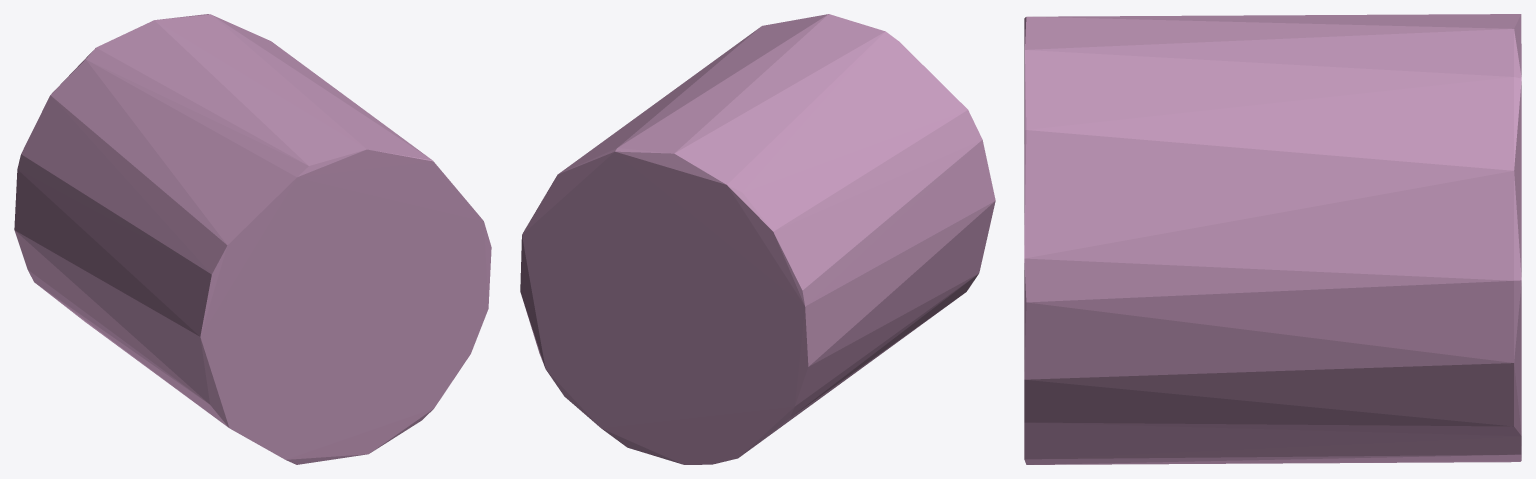
The model's file is food_processed_cannedFood_o01.glb.
The picture shows the model from 3 angles, left to right: view 1: azimuth 30°, elevation 25°; view 2: azimuth 150°, elevation 25°; view 3: azimuth 270°, elevation 25°; orthographic projection. The views are drawn at different scales.
Visible parts, largest first — view 1: geometry_0; view 2: geometry_0; view 3: geometry_0.
Part boxes in pixels (x1,y1,x2,y2): geometry_0: [14, 14, 491, 464]; geometry_0: [520, 14, 995, 464]; geometry_0: [1024, 14, 1521, 464].
Bounding box in the file's own units: 0.4333 × 0.4348 × 0.48.
